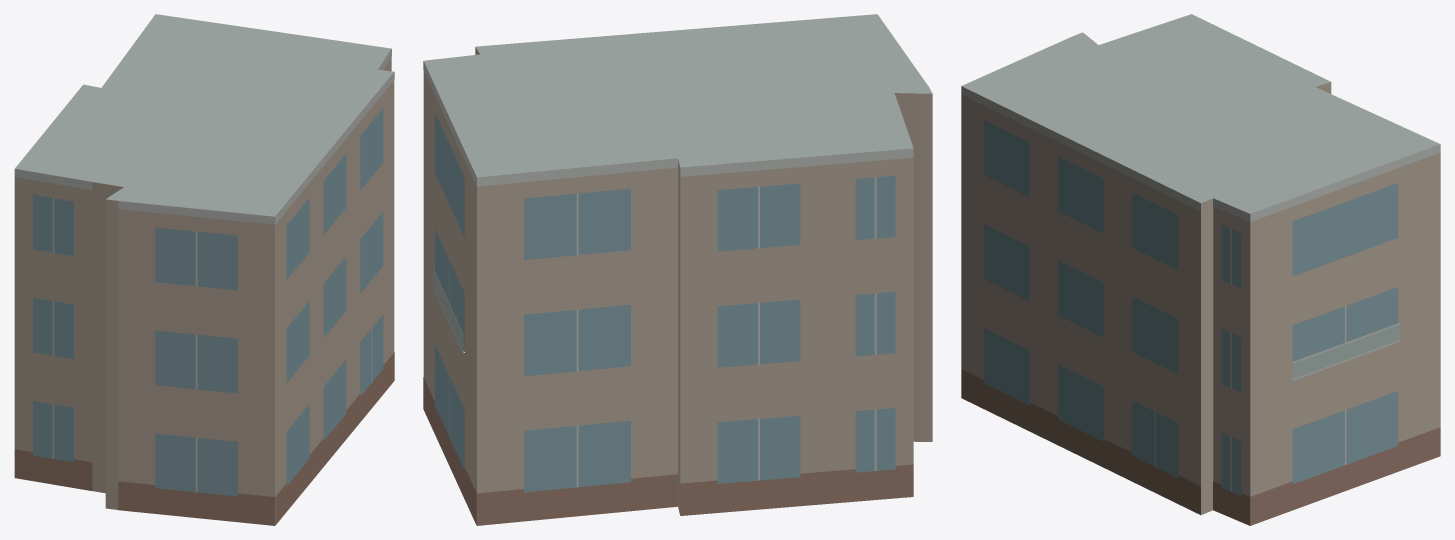
Rendered from survey-upis-32692630.glb.
The picture shows the model from 3 angles, left to right: view 1: azimuth 30°, elevation 25°; view 2: azimuth 150°, elevation 25°; view 3: azimuth 270°, elevation 25°; orthographic projection. The views are drawn at different scales.
Visible parts, largest first — view 1: survey-upis-32692630.tmp; view 2: survey-upis-32692630.tmp; view 3: survey-upis-32692630.tmp.
Boxes of the visible parts, x1,y1,x2,y2 form: survey-upis-32692630.tmp: (14,14,394,525); survey-upis-32692630.tmp: (423,14,932,525); survey-upis-32692630.tmp: (961,14,1440,525).
Bounding box in the file's own units: 12.58 × 9.15 × 12.75.
